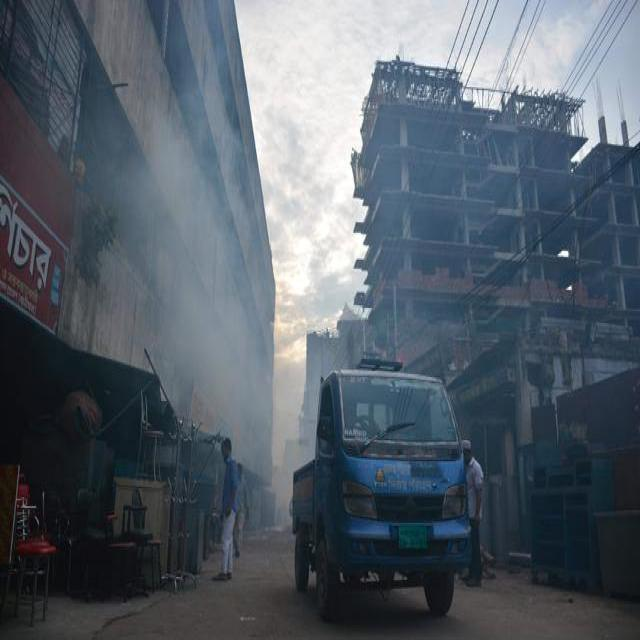truck: (291, 365, 471, 615)
